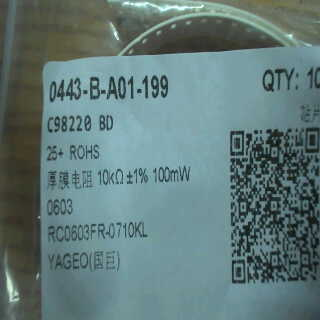10kR: (95, 165, 127, 188)
